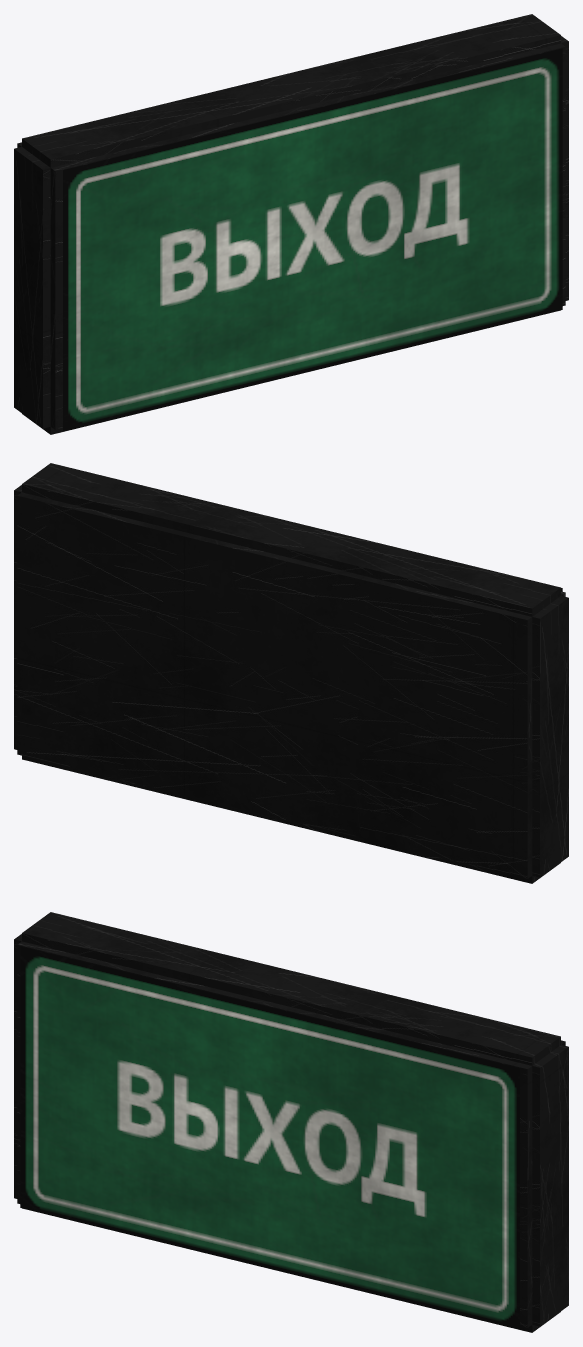
The model's file is evac_sign.gltf.
3 views of the same model, one above another, from view 1: azimuth 30°, elevation 25°; view 2: azimuth 150°, elevation 25°; view 3: azimuth 330°, elevation 25° (orthographic).
Visible parts, largest first — view 1: Emit_Sign, Body; view 2: Body; view 3: Emit_Sign, Body.
Part boxes in pixels (x1,y1,x2,y2): Emit_Sign: [63, 48, 562, 431]; Body: [14, 14, 568, 434]; Body: [14, 463, 568, 883]; Emit_Sign: [20, 946, 519, 1329]; Body: [14, 912, 568, 1332].
Size of the model in its own units: 0.4 by 0.2 by 0.053.
Materials: 2 (2 with a texture image).
